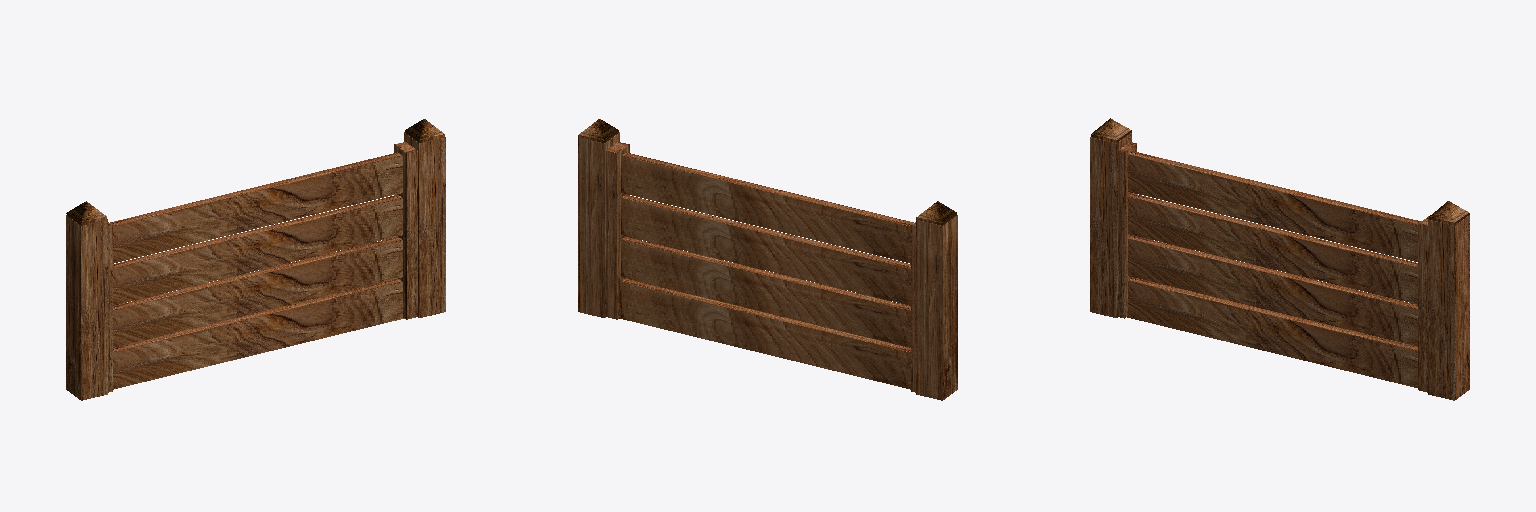
3 renders of one model, left to right at view 1: azimuth 30°, elevation 25°; view 2: azimuth 150°, elevation 25°; view 3: azimuth 330°, elevation 25°, orthographic.
Visible parts, largest first — view 1: Cube.001; view 2: Cube.001; view 3: Cube.001.
Boxes of the visible parts, x1,y1,x2,y2 form: Cube.001: [66, 119, 445, 400]; Cube.001: [578, 119, 957, 400]; Cube.001: [1090, 118, 1469, 400].
Bounding box in the file's own units: 9.85 × 4.98 × 0.7184.
1 materials, 1 textured.